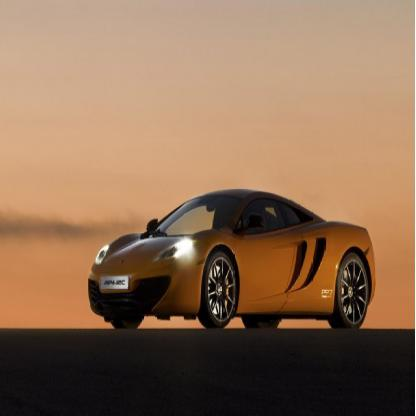Vehicle: (87, 189, 375, 331)
